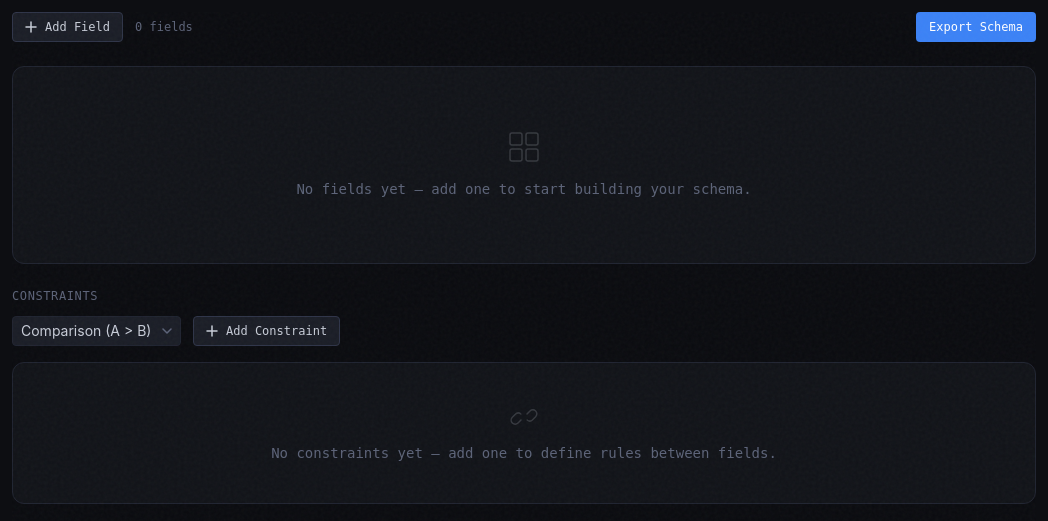
Test: SchemaBuilder › shows enum options input when type is enum
Click the button "Add Field": (68, 27) x1=12 y1=12 x2=123 y2=42
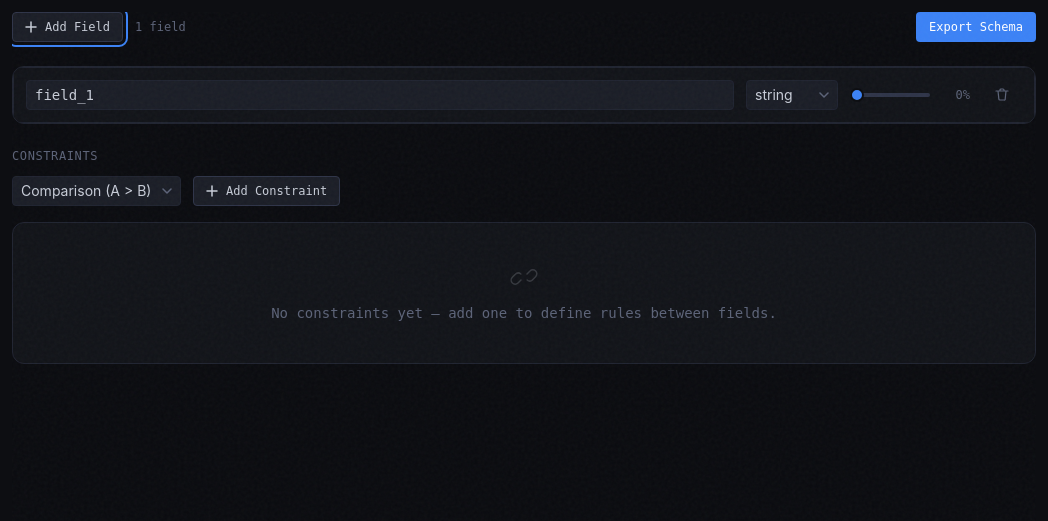
Select "enum" in the dropdown named "field type": (792, 95) x1=746 y1=80 x2=838 y2=110
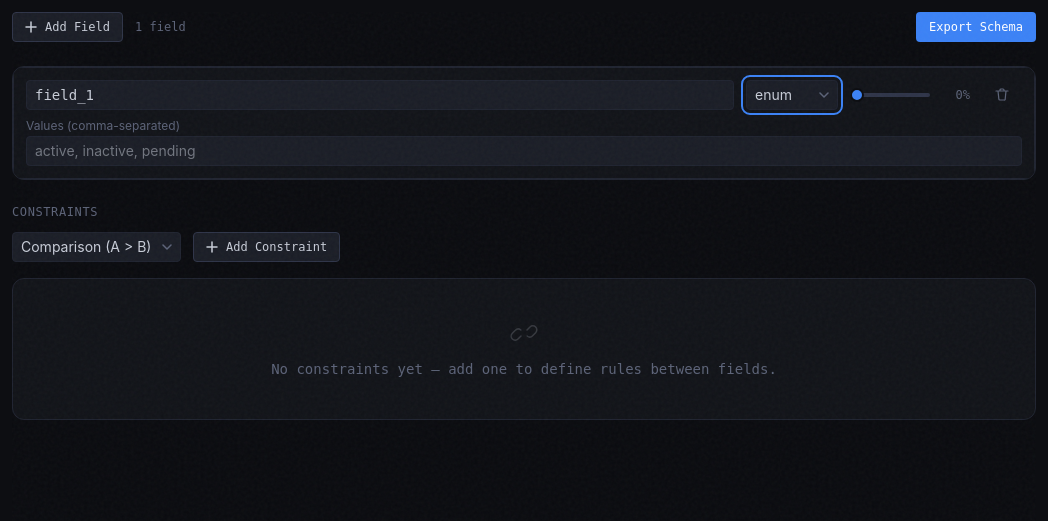
Check: the field labelled "Values (comma-separated)" is shown, box x1=26 y1=136 x2=1022 y2=166
